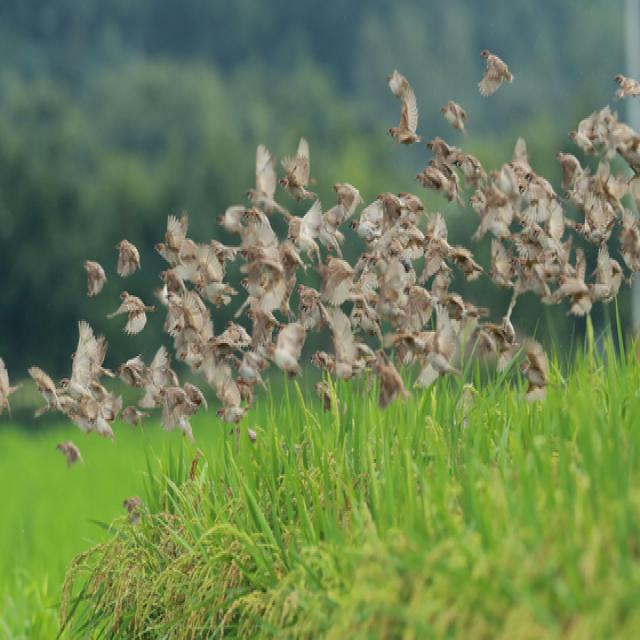bird: (61, 317, 110, 393), (382, 68, 428, 143), (268, 136, 320, 202), (519, 335, 561, 401), (249, 142, 289, 203), (476, 47, 516, 100), (112, 291, 152, 337), (373, 361, 410, 409), (216, 372, 248, 424), (156, 213, 186, 268), (114, 236, 145, 282), (245, 307, 278, 349), (79, 257, 108, 299), (215, 203, 248, 239), (334, 181, 361, 224), (555, 150, 583, 190), (116, 356, 146, 390), (56, 437, 84, 472), (440, 101, 469, 134), (614, 72, 640, 100)
